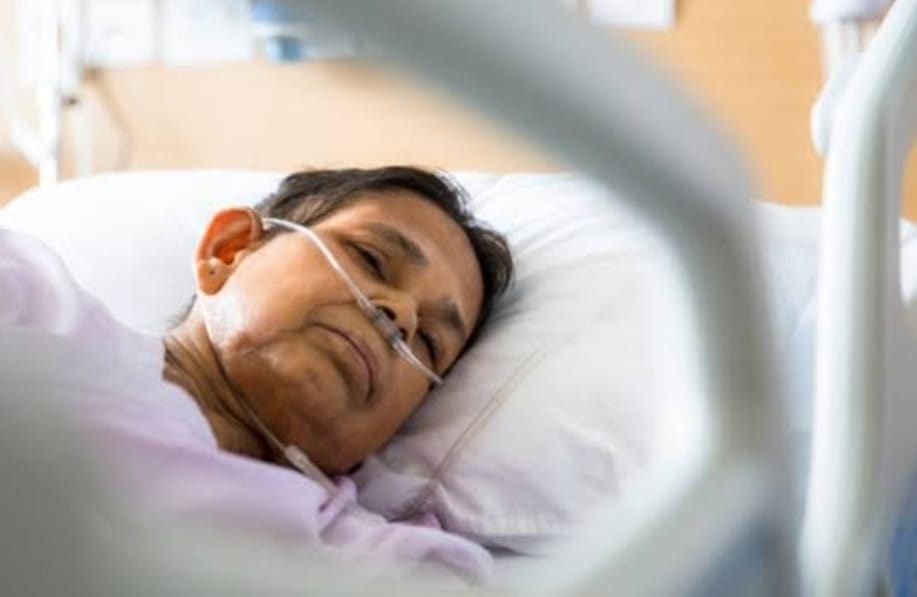sleeping: (21, 158, 526, 597)
